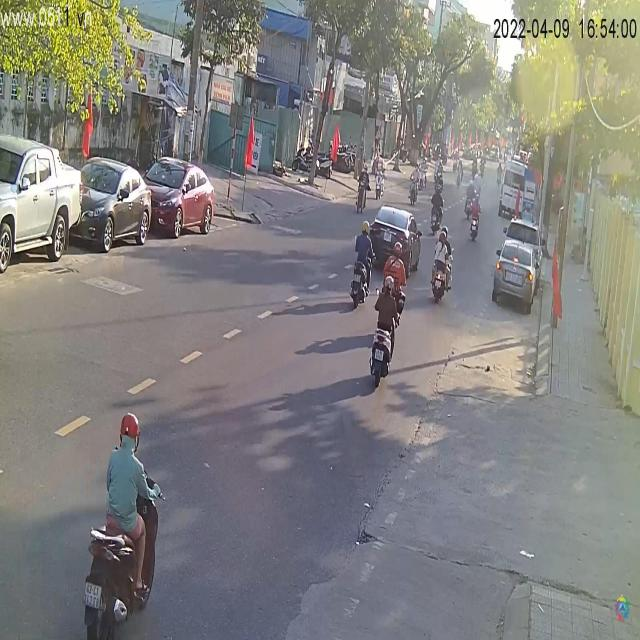car: (1, 135, 84, 276), (72, 158, 156, 254), (140, 156, 217, 240), (494, 228, 546, 314), (498, 157, 538, 220)
motorcycle: (84, 472, 160, 640), (368, 304, 398, 392), (430, 260, 451, 305), (349, 261, 368, 306)
